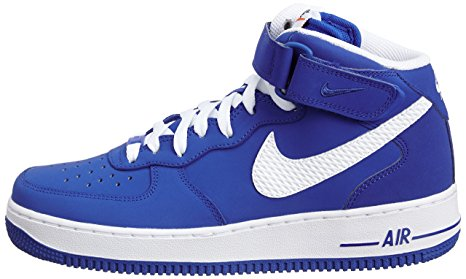Air Force One Blue: (1, 2, 464, 277)
